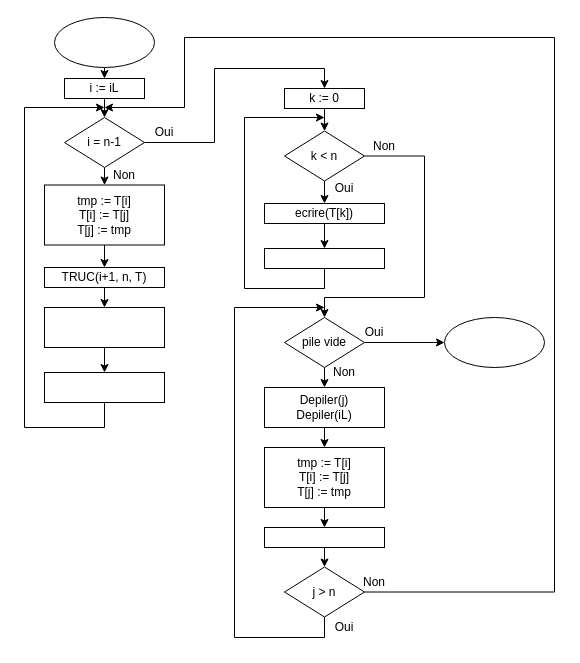
The diagram is 580 pixels wide and 663 high, and some of its shapes have lost their labels. Here are the shapes that lost their labels. From the top down, the centre of each, then its label:
At point 104,42: "DEBUT".
At point 324,258: "k := k + 1".
At point 104,327: "Empiler(iL) Empiler(j)".
At point 494,342: "FIN".
At point 104,387: "iL := iL + 1 j := iL".
At point 324,537: "j := j + 1".
